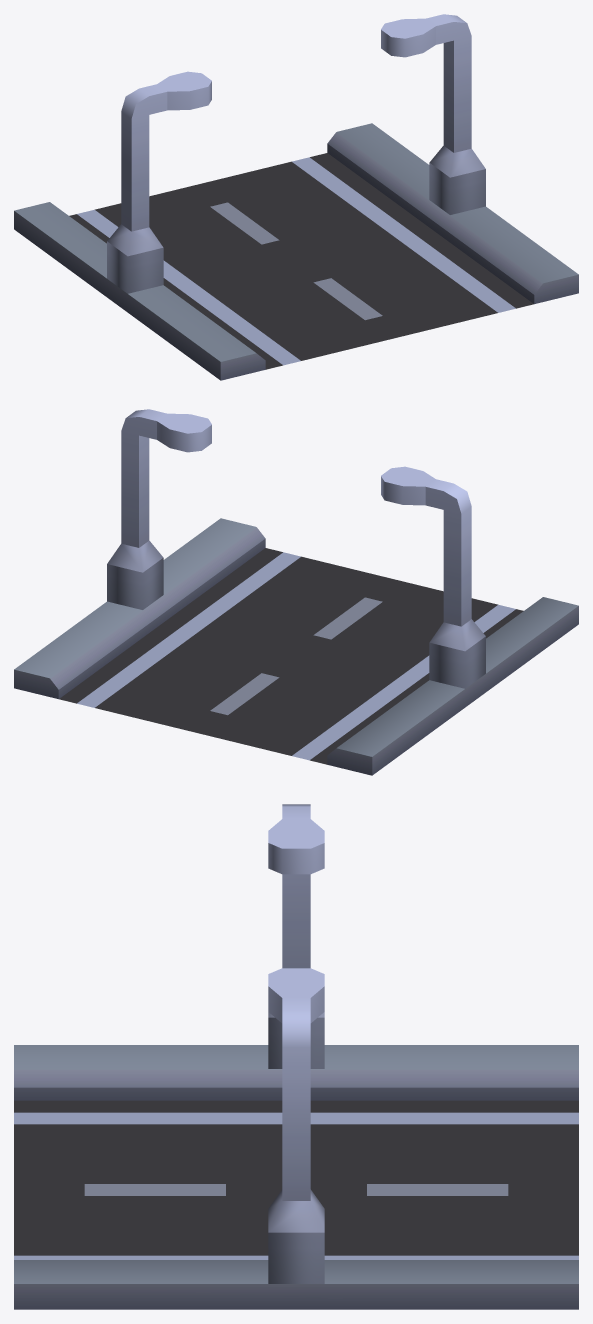
The model's file is road-straight-lightposts.glb.
3 renders of one model, top to bottom at view 1: azimuth 30°, elevation 25°; view 2: azimuth 150°, elevation 25°; view 3: azimuth 270°, elevation 25°, orthographic. The views are drawn at different scales.
Visible parts, largest first — view 1: road-straight-lightposts; view 2: road-straight-lightposts; view 3: road-straight-lightposts.
Boxes of the visible parts, left/top/right/bottom form: road-straight-lightposts: left=14, top=14, right=578, bottom=380; road-straight-lightposts: left=14, top=409, right=578, bottom=775; road-straight-lightposts: left=14, top=804, right=578, bottom=1309.
Bounding box in the file's own units: 1 × 0.55 × 1.
1 material, 1 textured.
